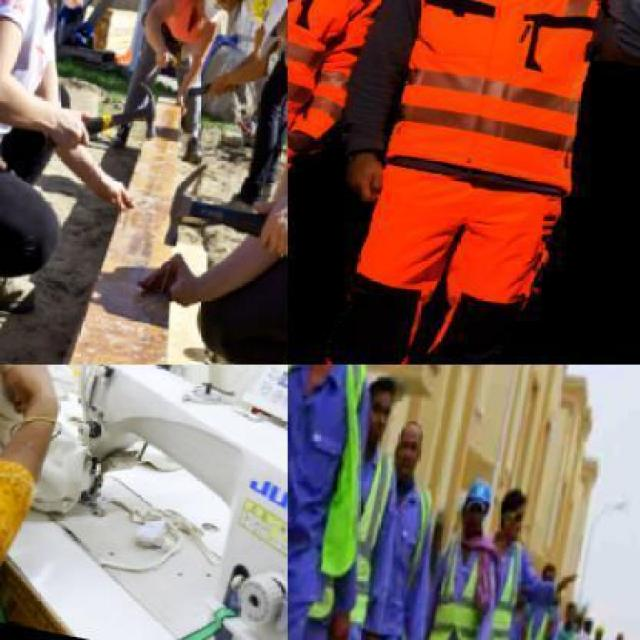vest: (378, 0, 608, 194), (288, 364, 400, 576), (309, 446, 400, 634), (363, 474, 439, 631), (425, 526, 503, 639), (483, 532, 534, 638), (510, 600, 564, 638), (548, 624, 582, 638)
